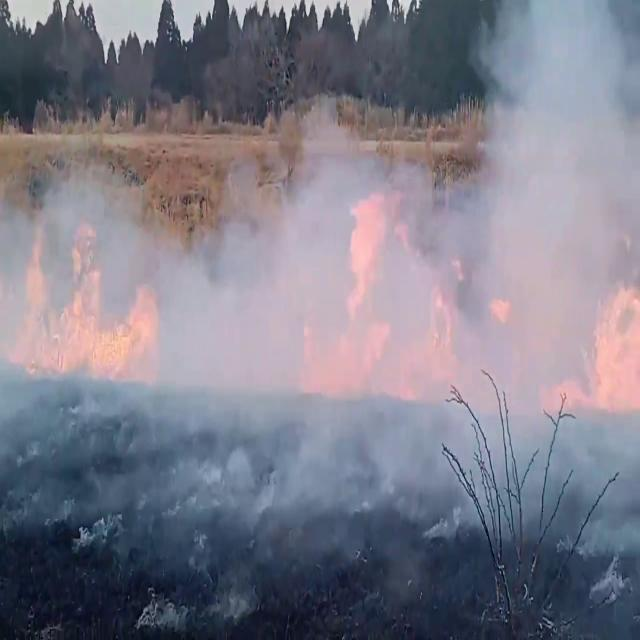Fire: (12, 208, 138, 384), (314, 180, 401, 380)
Smoke: (6, 44, 640, 538)
